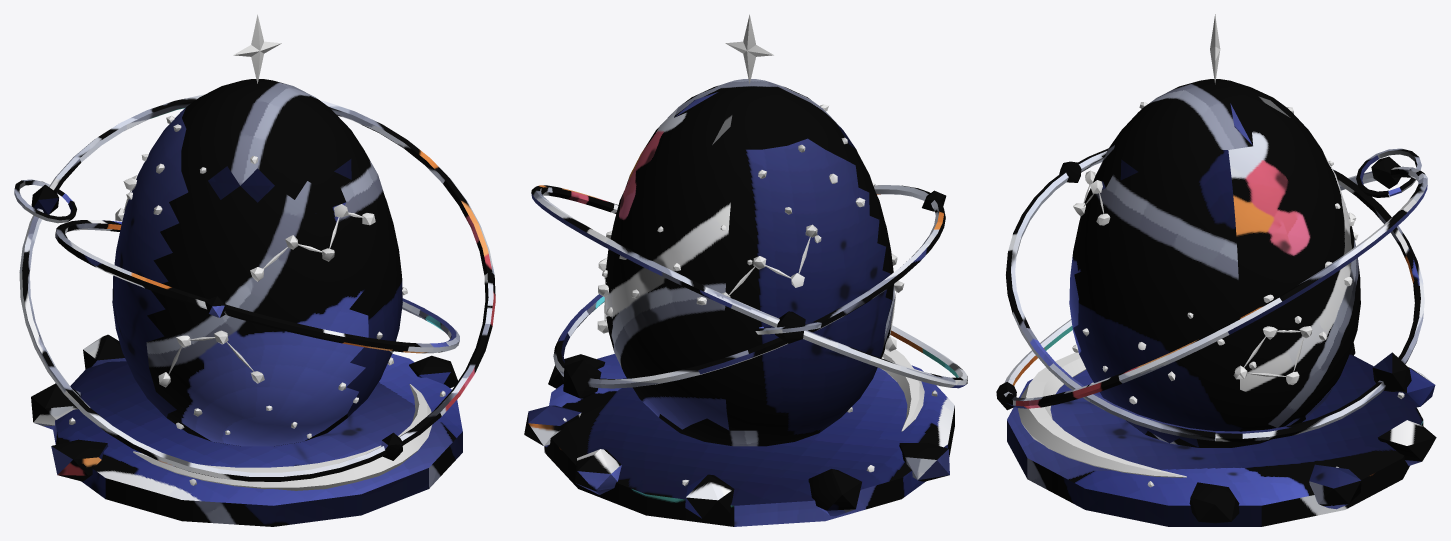
Rendered from egg_celestial.fbx.
3 renders of one model, left to right at view 1: azimuth 30°, elevation 25°; view 2: azimuth 150°, elevation 25°; view 3: azimuth 270°, elevation 25°, orthographic.
Parts seen in each view (by area): view 1: egg_celestial_body, egg_celestial_body_glow; view 2: egg_celestial_body, egg_celestial_body_glow; view 3: egg_celestial_body, egg_celestial_body_glow.
Boxes of the visible parts, x1=… form: egg_celestial_body: x1=14, y1=79, x2=495, y2=526; egg_celestial_body_glow: x1=69, y1=14, x2=445, y2=490; egg_celestial_body: x1=524, y1=79, x2=967, y2=526; egg_celestial_body_glow: x1=563, y1=14, x2=937, y2=486; egg_celestial_body: x1=996, y1=79, x2=1436, y2=526; egg_celestial_body_glow: x1=1018, y1=14, x2=1404, y2=487.
Bounding box in the file's own units: 360 × 363 × 338.
2 materials, 1 textured.
